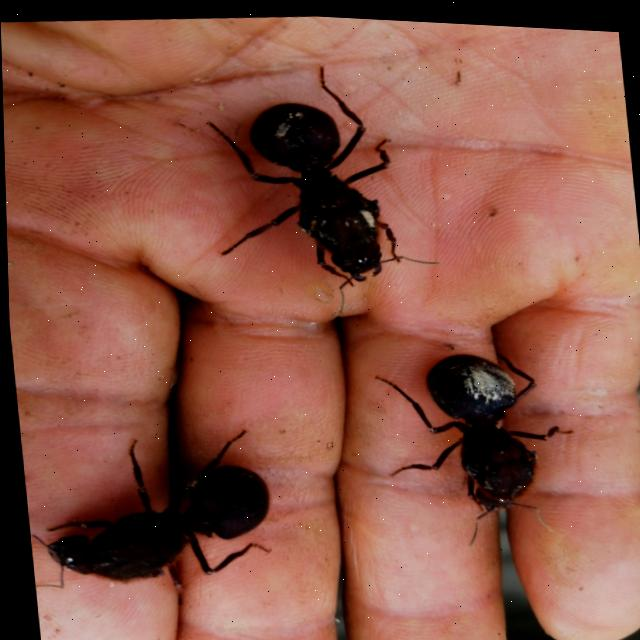Alive-Female-Dealate: (202, 51, 442, 324), (17, 415, 276, 619), (368, 335, 581, 553)
